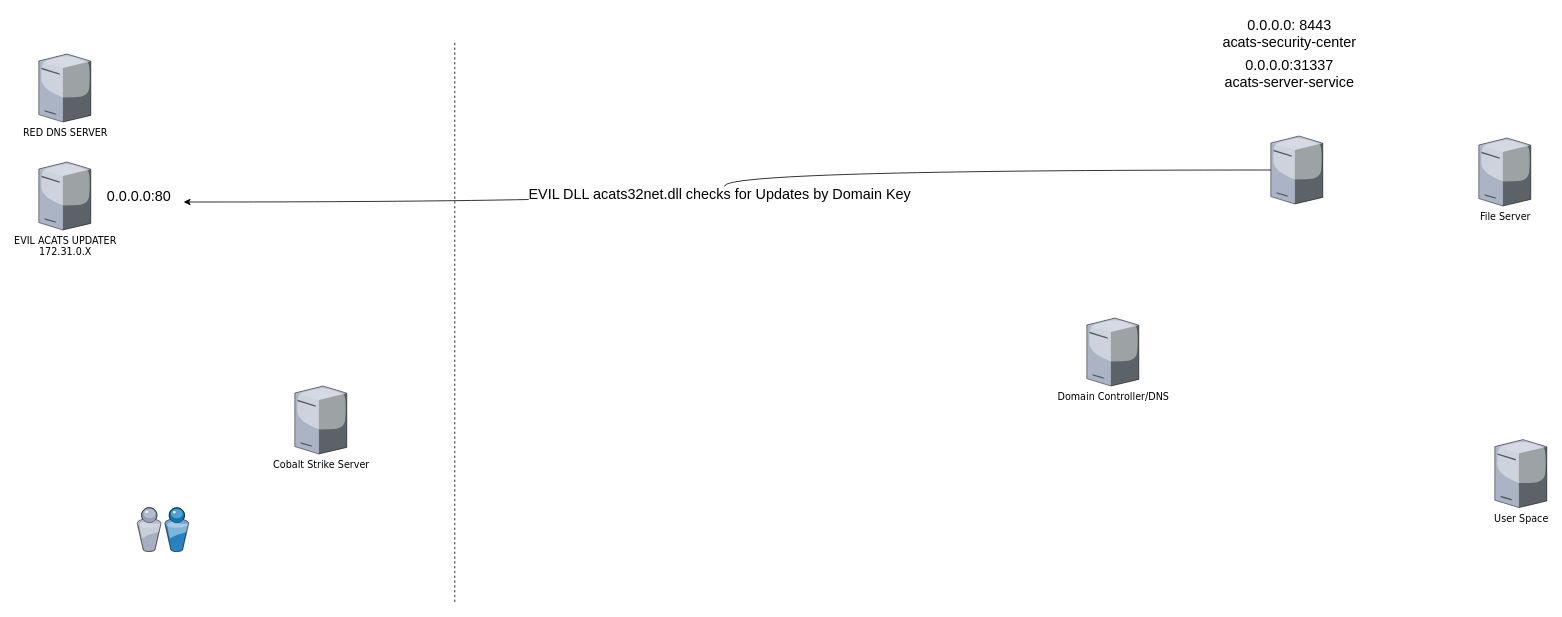
The diagram is 1562 pixels wide and 617 high, and some of its shapes have lost their labels. The centre of each missing label's shape, as x and y in pixels:
"ACATS SERVER" goes at point (1296, 170).
"RED USERS" goes at point (162, 529).
